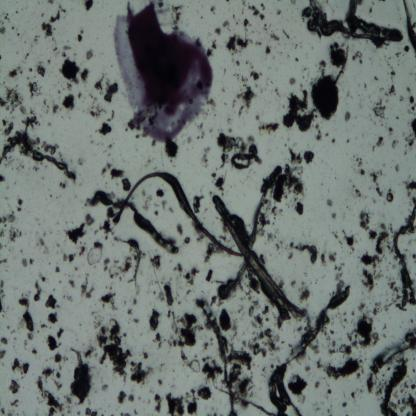Background material: (98, 317, 133, 382), (312, 58, 344, 122), (373, 328, 416, 375), (269, 356, 301, 416), (381, 356, 410, 416), (282, 86, 316, 134), (226, 343, 252, 403), (71, 341, 94, 406), (168, 310, 202, 351), (0, 126, 34, 164), (115, 230, 139, 278), (218, 132, 248, 166), (324, 359, 364, 384), (274, 164, 301, 201), (360, 252, 384, 290), (0, 84, 28, 114), (357, 314, 380, 348), (326, 42, 349, 76), (224, 27, 252, 54), (232, 145, 264, 168), (217, 307, 241, 337), (200, 353, 223, 384), (16, 294, 35, 331), (60, 59, 89, 83), (128, 360, 155, 384), (257, 328, 280, 355), (99, 208, 117, 242), (61, 221, 86, 245), (348, 149, 368, 179), (101, 255, 123, 282), (389, 279, 405, 313), (296, 240, 318, 264), (326, 340, 355, 358), (247, 336, 268, 360), (164, 391, 184, 416), (288, 373, 308, 397), (239, 80, 256, 108), (20, 115, 45, 134), (183, 387, 201, 413), (87, 93, 105, 119), (375, 220, 388, 256), (43, 390, 61, 416), (401, 116, 416, 147), (180, 350, 201, 372), (162, 276, 175, 308), (86, 239, 103, 263), (97, 292, 119, 310), (80, 272, 94, 300), (243, 271, 261, 292), (300, 2, 312, 32), (101, 83, 118, 103), (358, 207, 372, 231), (12, 356, 29, 375), (0, 117, 16, 137), (363, 370, 376, 394), (376, 374, 388, 400), (403, 392, 416, 416), (94, 67, 107, 91), (204, 242, 218, 264), (197, 385, 215, 402), (40, 140, 59, 156), (298, 279, 310, 304), (163, 141, 177, 162), (28, 81, 44, 99), (257, 212, 269, 236), (97, 160, 115, 176), (368, 165, 384, 183), (8, 224, 22, 244), (62, 93, 76, 113), (44, 292, 60, 309), (256, 121, 278, 133), (376, 98, 388, 120), (31, 279, 42, 302), (193, 195, 205, 216), (290, 147, 302, 168), (0, 278, 7, 314), (183, 266, 197, 284), (0, 213, 18, 227), (403, 177, 416, 196), (37, 234, 48, 256), (200, 144, 210, 168), (372, 355, 384, 375), (301, 148, 314, 166), (35, 378, 46, 399), (149, 309, 159, 332), (46, 310, 60, 326), (98, 120, 112, 136), (348, 328, 359, 348), (153, 285, 165, 303), (40, 22, 54, 37), (345, 234, 358, 250), (122, 253, 132, 273), (350, 48, 364, 62), (41, 367, 56, 380), (292, 200, 305, 215), (80, 0, 96, 12), (204, 267, 216, 283), (152, 393, 161, 414), (388, 397, 401, 411), (9, 66, 23, 79), (216, 175, 226, 192), (333, 262, 343, 279), (48, 335, 58, 352), (248, 69, 262, 81), (399, 381, 413, 393), (318, 57, 326, 78), (9, 378, 21, 392), (140, 198, 154, 210), (254, 314, 266, 328), (116, 391, 127, 406), (84, 345, 95, 360), (120, 177, 131, 192), (91, 310, 100, 328), (336, 278, 346, 294), (386, 81, 396, 97), (302, 317, 312, 333), (110, 169, 126, 179), (148, 255, 160, 268), (371, 301, 382, 315), (60, 44, 71, 58), (15, 198, 26, 212), (298, 180, 306, 199), (269, 205, 277, 224), (375, 133, 385, 148), (385, 186, 395, 201), (49, 10, 60, 23), (28, 136, 41, 147), (84, 48, 95, 61), (36, 65, 46, 79), (55, 349, 65, 363), (42, 100, 52, 114), (374, 180, 382, 197), (63, 251, 74, 263), (322, 325, 330, 341), (401, 396, 408, 414), (409, 94, 416, 112), (206, 97, 217, 108), (9, 396, 20, 407), (331, 233, 342, 244), (31, 34, 41, 46), (63, 394, 73, 406), (50, 102, 60, 114), (85, 407, 98, 416), (288, 241, 294, 260), (193, 132, 207, 140), (76, 29, 84, 43), (155, 332, 162, 348), (202, 339, 212, 350), (248, 6, 258, 17), (127, 391, 137, 402), (173, 261, 183, 272), (261, 20, 270, 32), (54, 378, 63, 390), (271, 32, 283, 41), (316, 129, 324, 142), (223, 19, 231, 32), (118, 408, 131, 416), (195, 230, 204, 241), (0, 254, 9, 265), (64, 80, 73, 91), (281, 29, 290, 40), (392, 136, 399, 150), (384, 301, 392, 313), (68, 278, 76, 290), (288, 74, 296, 86), (342, 110, 350, 122), (262, 303, 270, 315), (86, 214, 94, 226), (264, 44, 272, 56), (264, 199, 272, 211), (3, 12, 12, 22), (99, 382, 108, 392), (109, 110, 118, 120), (325, 197, 334, 207), (358, 300, 367, 310), (388, 240, 394, 255), (354, 188, 362, 199), (320, 254, 328, 265), (369, 229, 377, 240), (1, 334, 8, 346), (326, 402, 332, 416), (246, 132, 253, 144), (37, 273, 46, 282), (268, 231, 276, 241), (157, 188, 165, 198), (156, 376, 164, 386), (243, 18, 251, 28), (234, 73, 242, 83), (58, 3, 66, 13), (260, 252, 266, 265), (278, 276, 284, 289), (330, 251, 336, 264), (177, 224, 184, 235), (56, 328, 63, 339), (146, 156, 153, 167), (251, 300, 260, 308), (253, 112, 261, 121), (238, 104, 244, 116), (316, 358, 322, 370), (128, 278, 136, 287), (241, 0, 246, 14), (349, 390, 356, 400), (326, 328, 336, 335), (212, 38, 218, 49), (248, 307, 254, 318), (389, 222, 394, 235), (388, 69, 396, 77), (209, 5, 217, 13), (404, 44, 411, 53), (260, 2, 266, 12), (247, 289, 252, 301), (78, 91, 84, 101), (22, 257, 28, 267), (22, 337, 27, 349), (206, 47, 212, 57), (242, 75, 247, 87), (187, 134, 193, 144), (221, 232, 227, 242), (127, 306, 133, 316), (258, 13, 266, 20), (290, 0, 298, 7), (40, 322, 48, 329), (230, 100, 237, 108), (31, 347, 39, 354), (394, 50, 401, 58), (197, 123, 204, 131), (216, 25, 221, 36), (0, 348, 5, 359), (212, 295, 217, 306), (0, 26, 6, 35), (393, 254, 399, 263), (305, 364, 311, 373), (161, 200, 167, 209), (27, 331, 33, 340), (298, 80, 304, 89), (81, 245, 87, 254), (276, 242, 281, 252), (373, 74, 379, 82), (67, 294, 73, 302), (410, 382, 416, 390), (291, 280, 297, 288), (313, 381, 319, 389), (0, 407, 6, 415), (151, 138, 157, 146), (217, 298, 223, 306), (60, 182, 66, 190), (185, 238, 191, 246), (0, 173, 5, 182), (223, 67, 227, 78), (338, 260, 345, 266), (93, 228, 99, 235), (33, 166, 39, 173), (327, 387, 333, 394), (51, 46, 57, 53), (78, 158, 84, 165), (356, 374, 361, 382), (277, 87, 281, 97), (57, 372, 62, 380), (343, 316, 348, 324), (406, 86, 411, 94), (133, 298, 138, 306), (136, 285, 140, 294), (227, 126, 233, 132), (236, 59, 240, 68), (396, 163, 400, 172), (221, 87, 226, 94), (168, 206, 173, 213), (24, 53, 29, 60), (0, 231, 5, 238), (388, 127, 393, 134), (29, 257, 34, 264), (332, 212, 337, 219), (271, 362, 276, 369), (106, 143, 113, 148), (372, 145, 376, 153), (279, 205, 283, 213), (250, 62, 254, 70), (412, 254, 416, 262), (400, 94, 404, 102), (154, 210, 158, 218), (123, 298, 127, 306), (56, 265, 60, 273), (133, 408, 138, 414), (342, 402, 348, 407), (277, 10, 282, 16), (244, 59, 249, 65), (367, 8, 372, 14), (214, 411, 220, 416), (187, 289, 191, 296), (144, 353, 148, 360), (294, 55, 298, 62), (315, 123, 319, 130), (48, 120, 52, 127), (383, 322, 387, 329), (352, 308, 356, 315), (143, 188, 146, 197), (48, 0, 53, 5), (46, 60, 52, 64), (48, 193, 52, 199), (29, 67, 33, 73), (346, 138, 350, 144), (0, 19, 4, 25), (212, 172, 216, 178), (228, 117, 231, 125), (78, 251, 82, 257), (7, 412, 13, 416), (294, 44, 298, 50), (264, 318, 270, 322), (259, 87, 262, 94), (232, 13, 235, 20), (280, 51, 284, 56), (16, 50, 20, 55), (176, 300, 180, 305), (74, 266, 78, 271), (331, 138, 336, 142), (15, 10, 20, 14), (372, 0, 376, 5), (134, 318, 138, 323), (224, 101, 228, 106), (135, 134, 140, 138), (73, 52, 77, 57), (90, 139, 94, 144), (379, 0, 385, 3), (0, 54, 3, 60), (41, 12, 44, 18), (383, 332, 386, 338), (0, 243, 3, 249), (256, 42, 260, 46), (11, 26, 15, 30), (364, 83, 367, 88), (271, 80, 274, 85), (37, 0, 40, 5), (342, 230, 345, 235), (235, 20, 238, 25), (326, 132, 328, 138), (3, 80, 5, 85), (110, 286, 112, 291), (154, 290, 156, 295), (303, 69, 306, 72), (284, 144, 287, 147), (101, 413, 104, 416), (256, 84, 258, 88), (17, 34, 20, 36), (227, 0, 229, 2)
Cellulose filter fibre: (213, 196, 304, 318), (217, 163, 279, 297), (88, 189, 177, 254), (309, 0, 406, 51), (290, 284, 353, 360), (203, 303, 236, 416), (17, 130, 74, 180), (393, 193, 416, 310), (215, 385, 276, 416), (403, 0, 416, 53)
Hair textile: (112, 166, 274, 262)
Pen: (112, 5, 221, 141)
